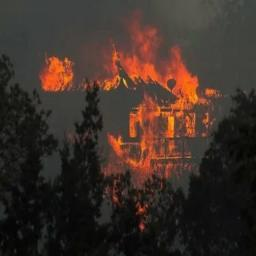Low smoke: (0, 0, 256, 56)
Medium fire: (35, 43, 225, 174)
